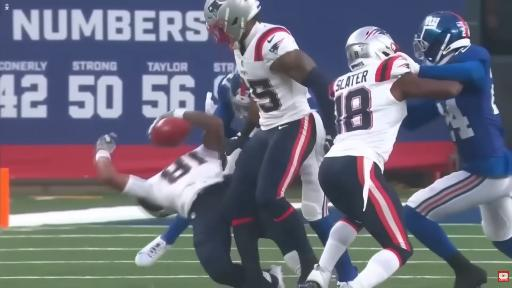Helmet: (414, 12, 470, 64), (204, 0, 260, 45), (346, 27, 398, 70), (231, 69, 252, 117)
Jersey: (420, 45, 511, 176), (326, 56, 410, 170), (234, 23, 310, 130), (147, 146, 223, 217), (214, 71, 239, 138)
Player: (308, 27, 461, 287), (204, 0, 335, 287), (405, 12, 511, 287), (96, 110, 246, 287), (301, 138, 332, 244)
